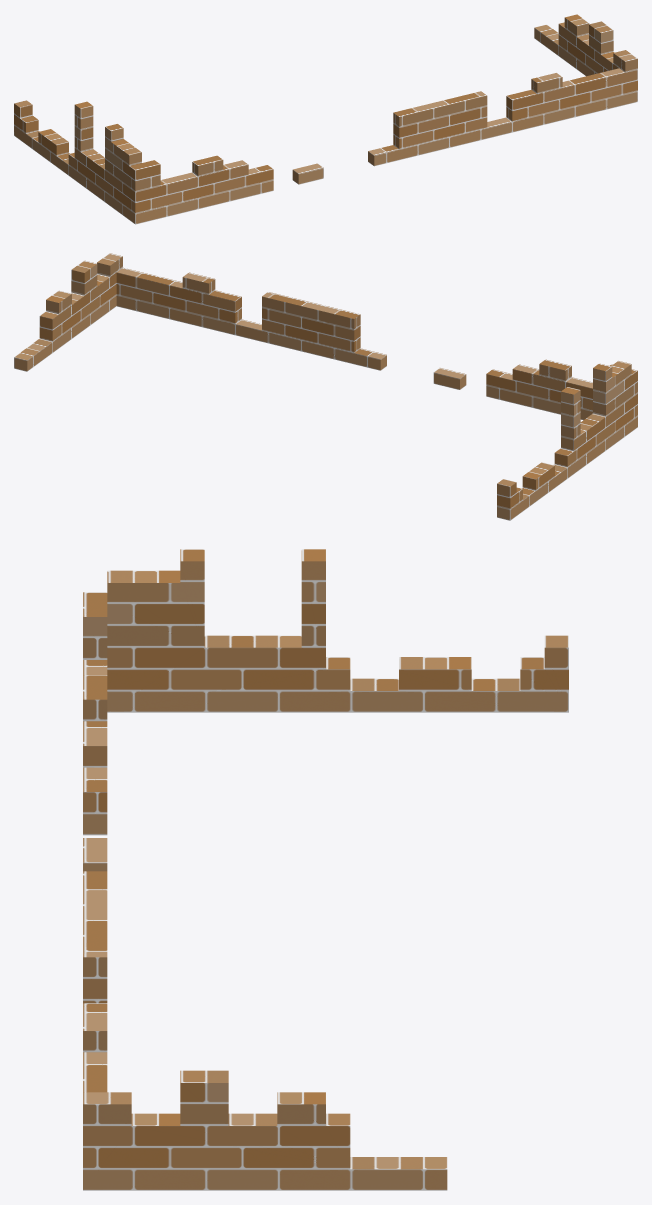
File: brick-ruins-half.fbx
The picture shows the model from 3 angles, top to bottom: view 1: azimuth 30°, elevation 25°; view 2: azimuth 150°, elevation 25°; view 3: azimuth 270°, elevation 25°; orthographic projection. The views are drawn at different scales.
Visible parts, largest first — view 1: brick-ruins-half; view 2: brick-ruins-half; view 3: brick-ruins-half.
Boxes of the visible parts, x1,y1,x2,y2 form: brick-ruins-half: [14, 14, 637, 224]; brick-ruins-half: [14, 253, 637, 520]; brick-ruins-half: [83, 549, 568, 1190].
Size of the model in its own units: 800 by 115 by 335.
Materials: 1 (1 with a texture image).
